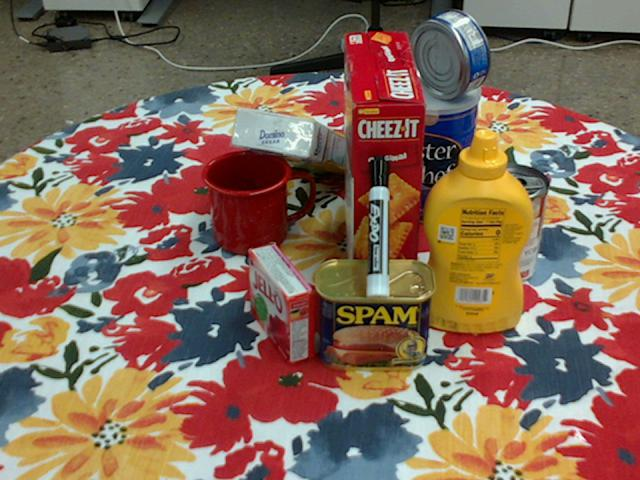cracker_box: (342, 33, 426, 306)
gelatin_box: (250, 242, 315, 363)
large_marker: (367, 154, 390, 297)
master_chef_can: (381, 68, 480, 224)
mug: (203, 149, 316, 255)
mustard_bottle: (419, 128, 534, 333)
potted_meat_can: (316, 258, 437, 371)
sugar_box: (233, 108, 364, 177)
tomato_soup_can: (471, 163, 550, 284)
tuna_fish_can: (407, 10, 489, 98)
